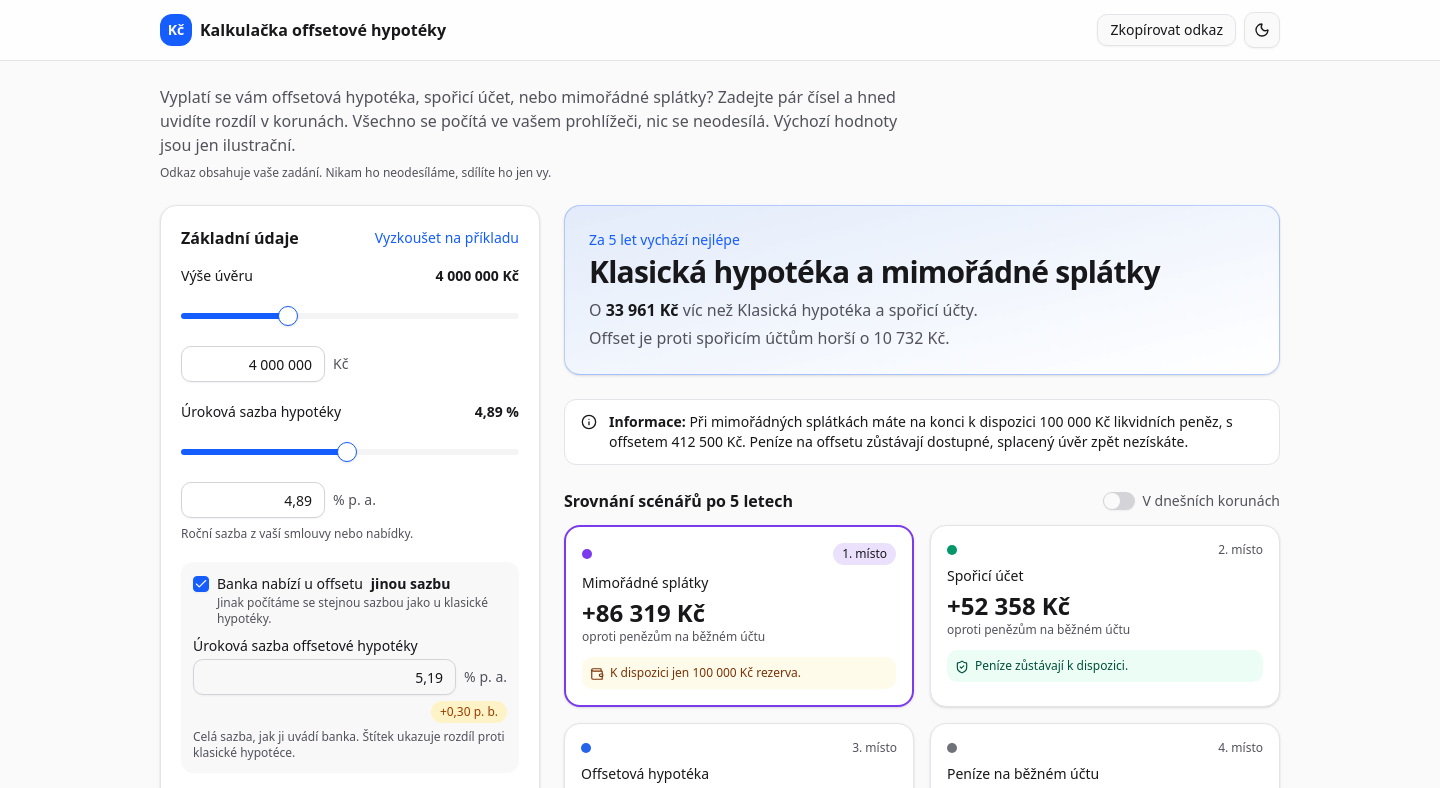
Test: "Vyzkoušet na příkladu" sets the default values
This screenshot has width=1440, height=788.
Replace the text in the field labelled "Výše úvěru" with "1 000 000" at (253, 364), box [181,346,325,382]
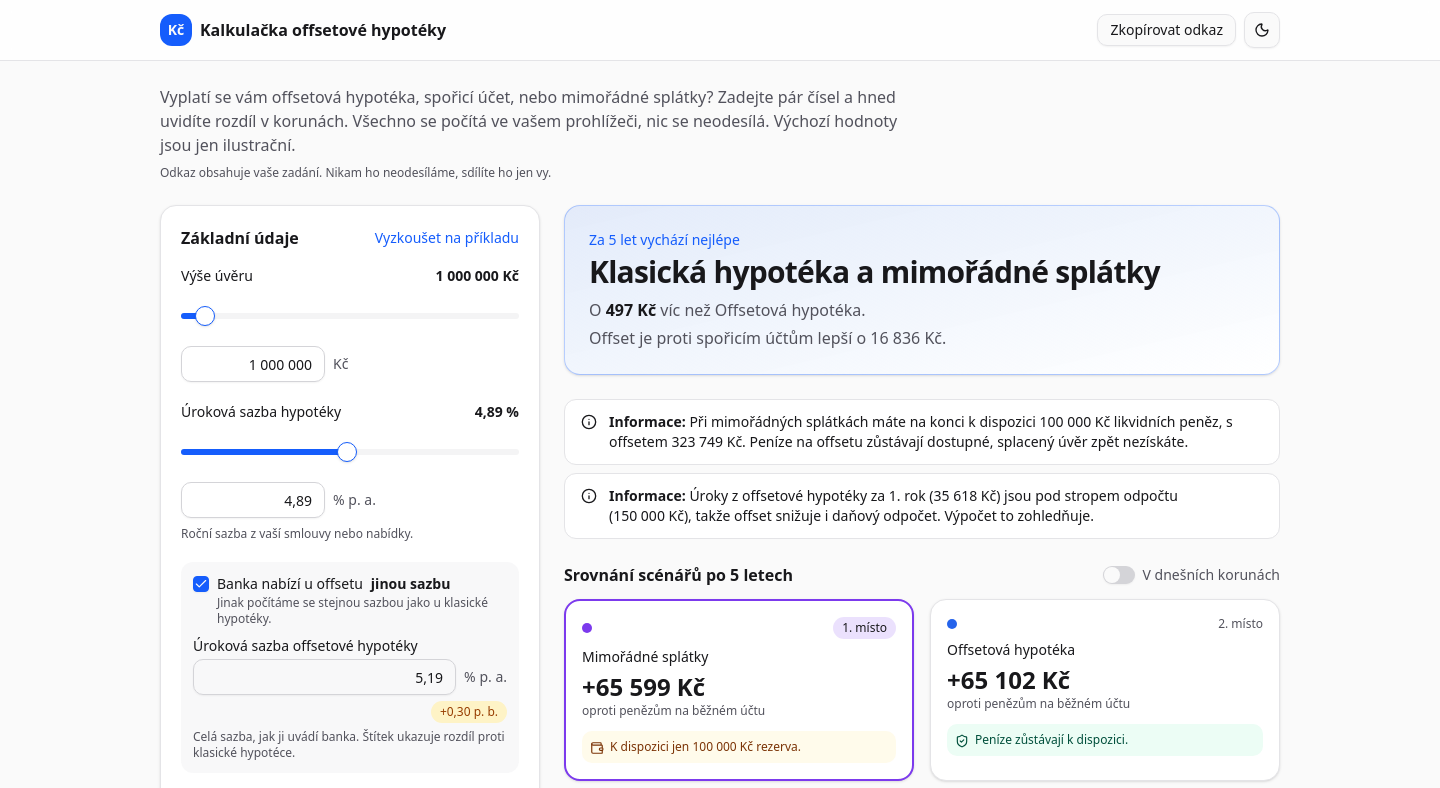
Replace the text in the field labelled "Úroková sazba hypotéky" with "3" at (253, 500), box [181,482,325,518]
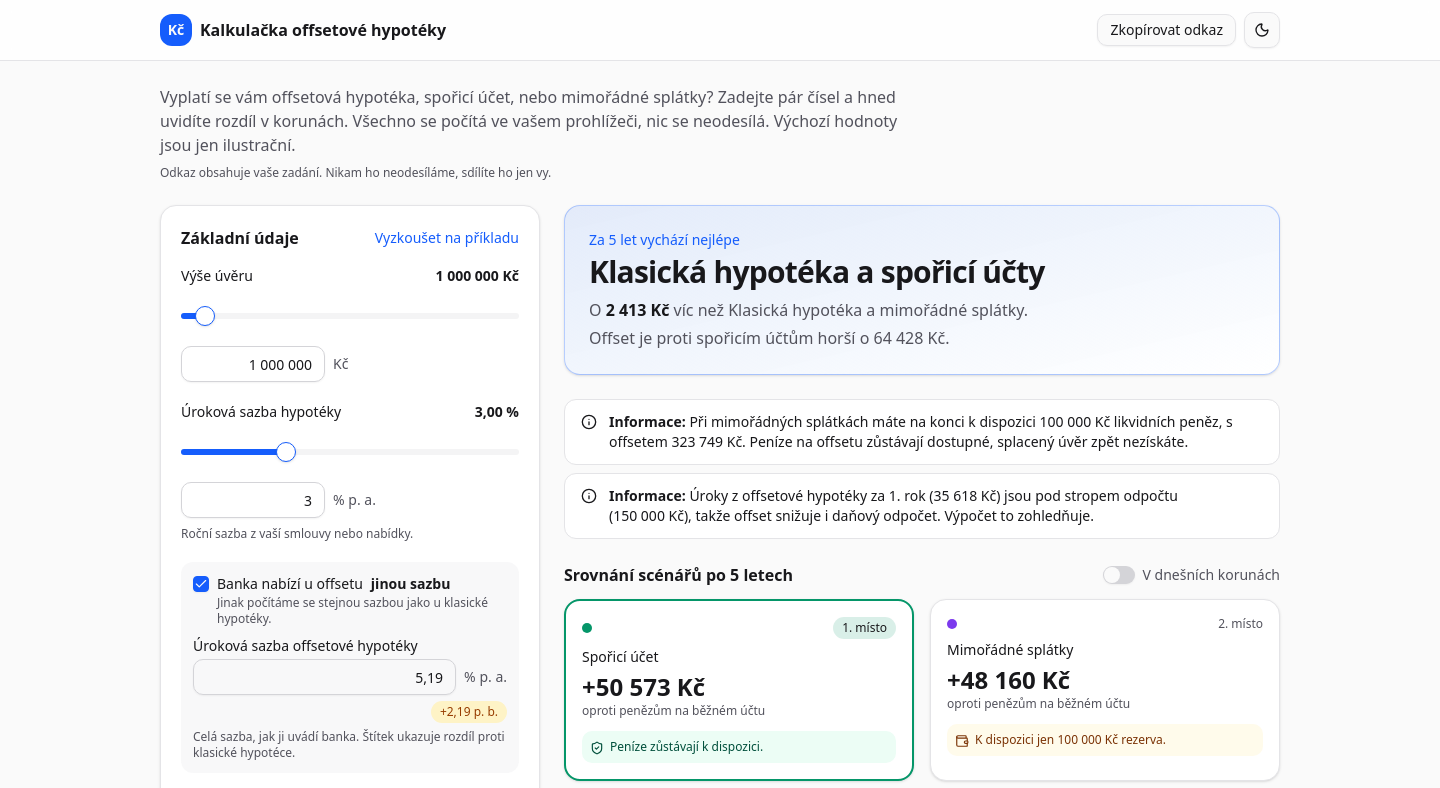
Click the button "Vyzkoušet na příkladu".
click(447, 238)  # box [375,228,519,248]
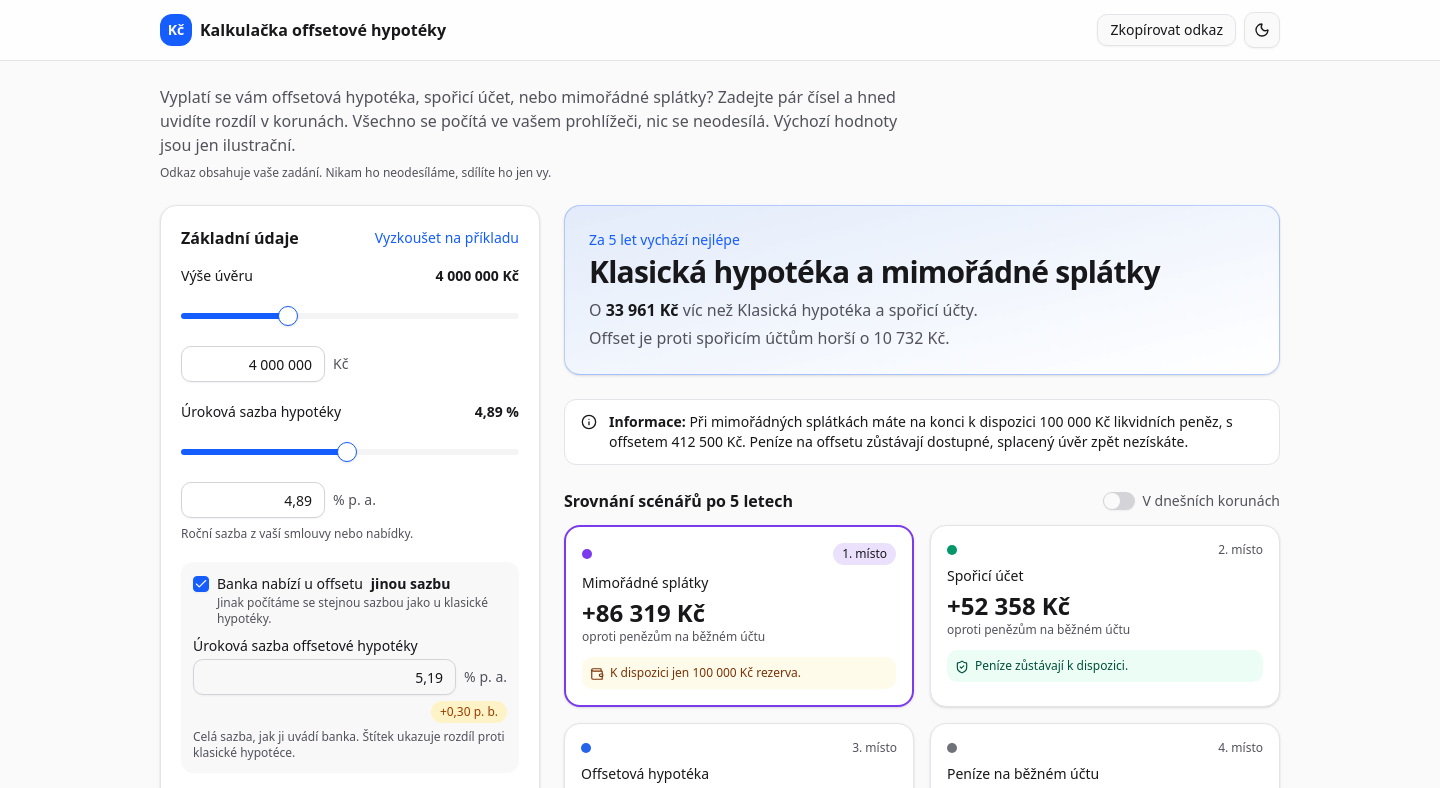
expect the field labelled "Úroková sazba hypotéky" holds "4,89": met, box [181,482,325,518]
